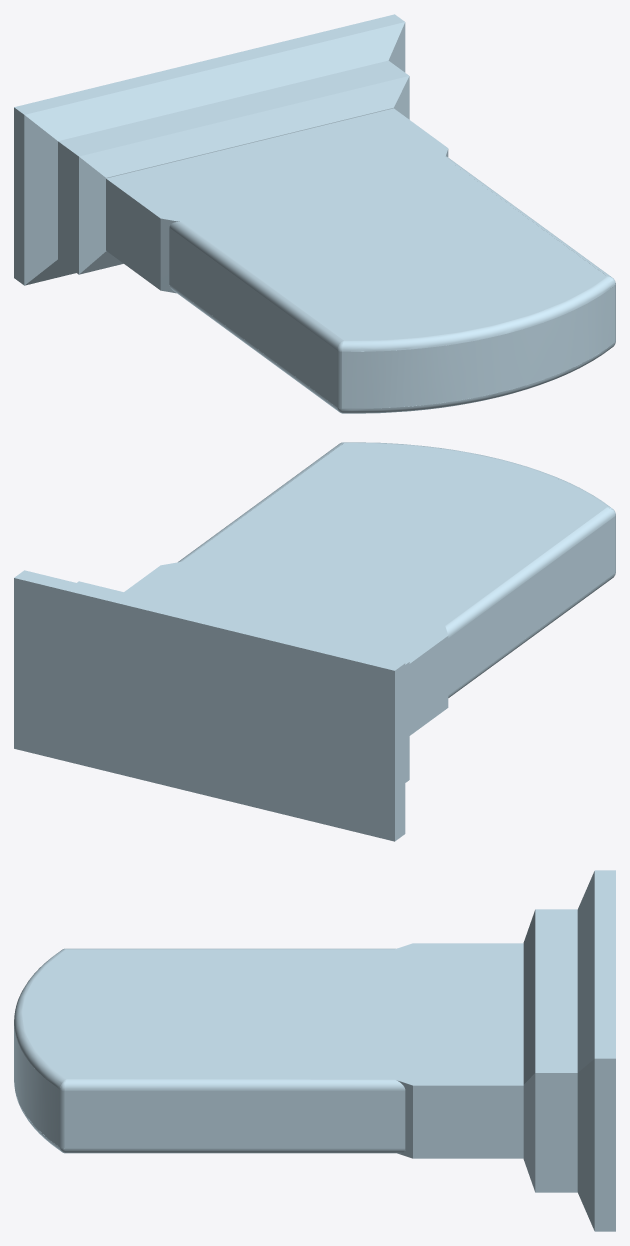
The picture shows the model from 3 angles, top to bottom: view 1: azimuth 30°, elevation 25°; view 2: azimuth 150°, elevation 25°; view 3: azimuth 270°, elevation 25°; orthographic projection.
Parts seen in each view (by area): view 1: PA-429-F_LOD0; view 2: PA-429-F_LOD0; view 3: PA-429-F_LOD0.
Part boxes in pixels (<box>): PA-429-F_LOD0: <box>14,14,615,413</box>; PA-429-F_LOD0: <box>14,442,615,841</box>; PA-429-F_LOD0: <box>14,870,615,1231</box>.
Size of what is drawn, in the model's own units: 53.34 by 22.86 by 72.04.
